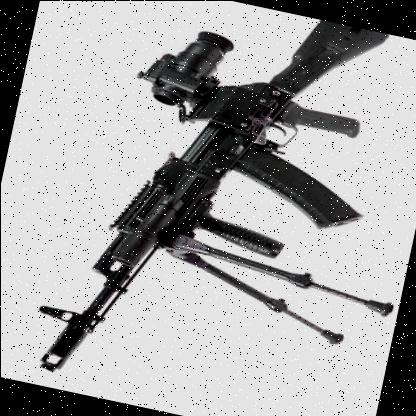rifle: (7, 0, 399, 416)
